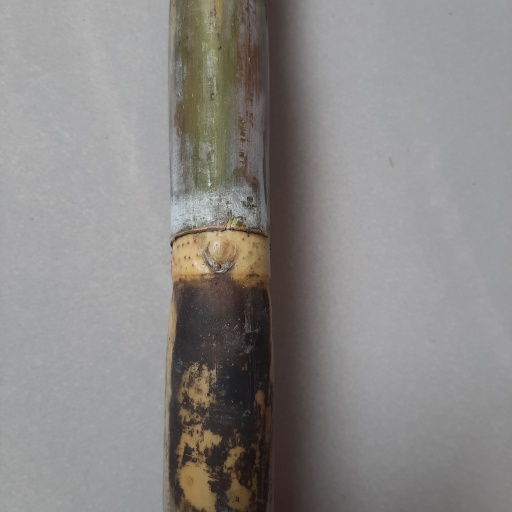Bud: (200, 232, 239, 277)
